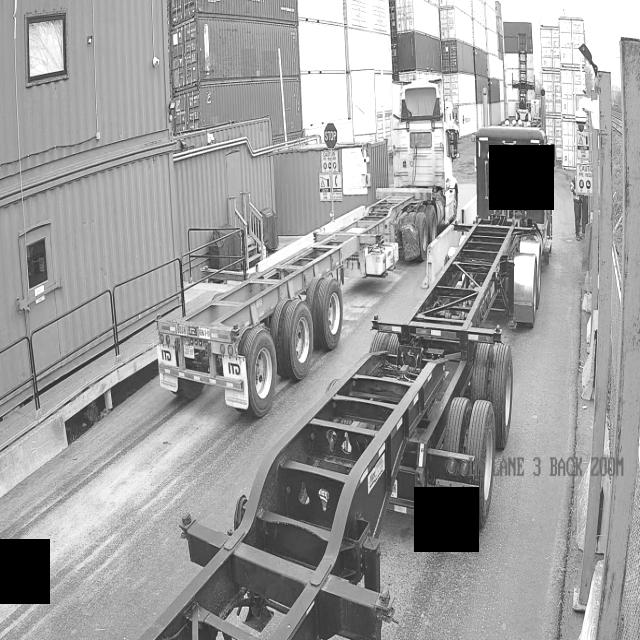driver: (572, 178, 581, 239)
truck_without_container: (140, 124, 554, 640), (158, 80, 458, 415)
